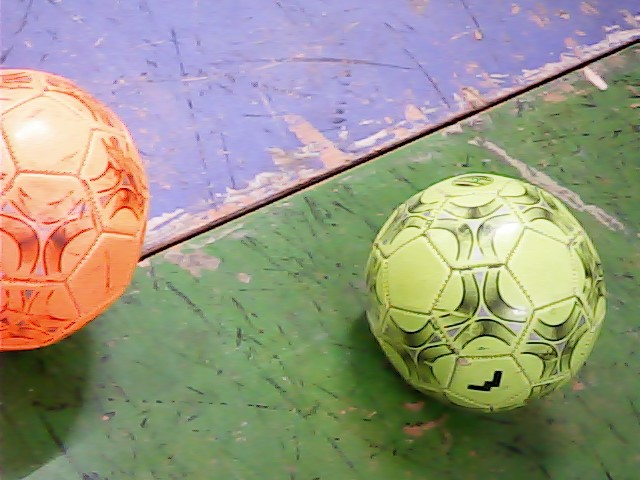Green_ball: (363, 172, 621, 414)
Orange_ball: (1, 66, 166, 355)
